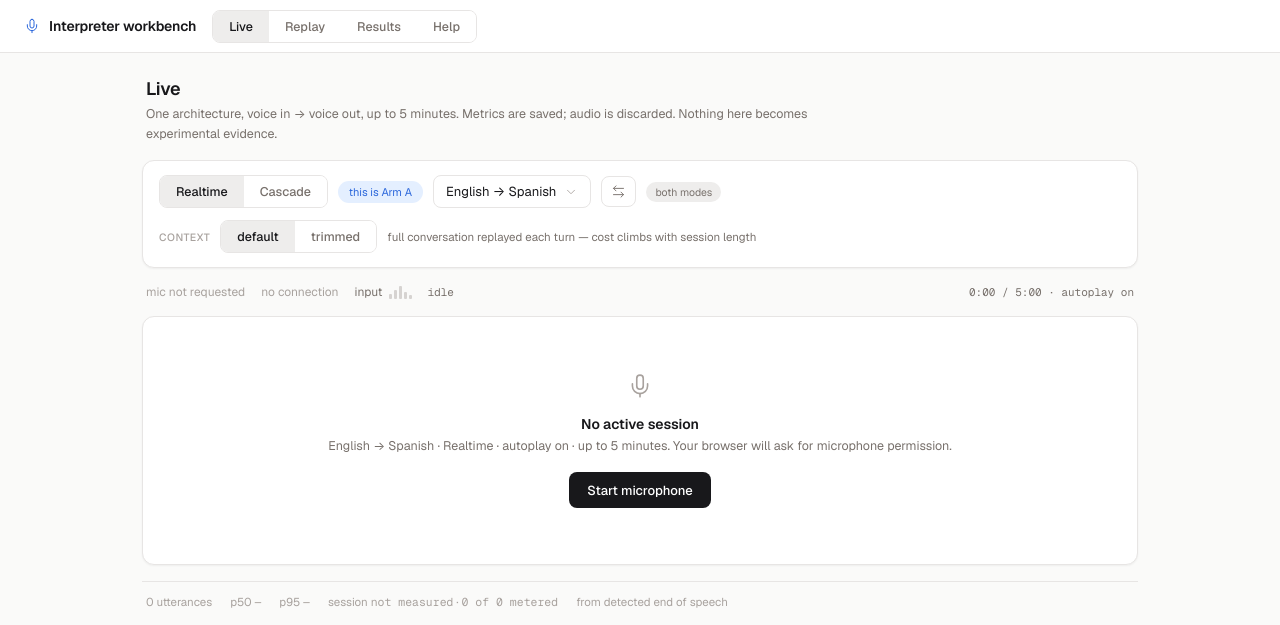
it: failure copy differs by architecture › realtime is opaque — NO stage attribution; the session keeps running
What coordinates should you click on to do the following:
click the button "Start microphone"
I would click on:
 (640, 490)
Its box is [569,472,711,508].
Wait 400 ms
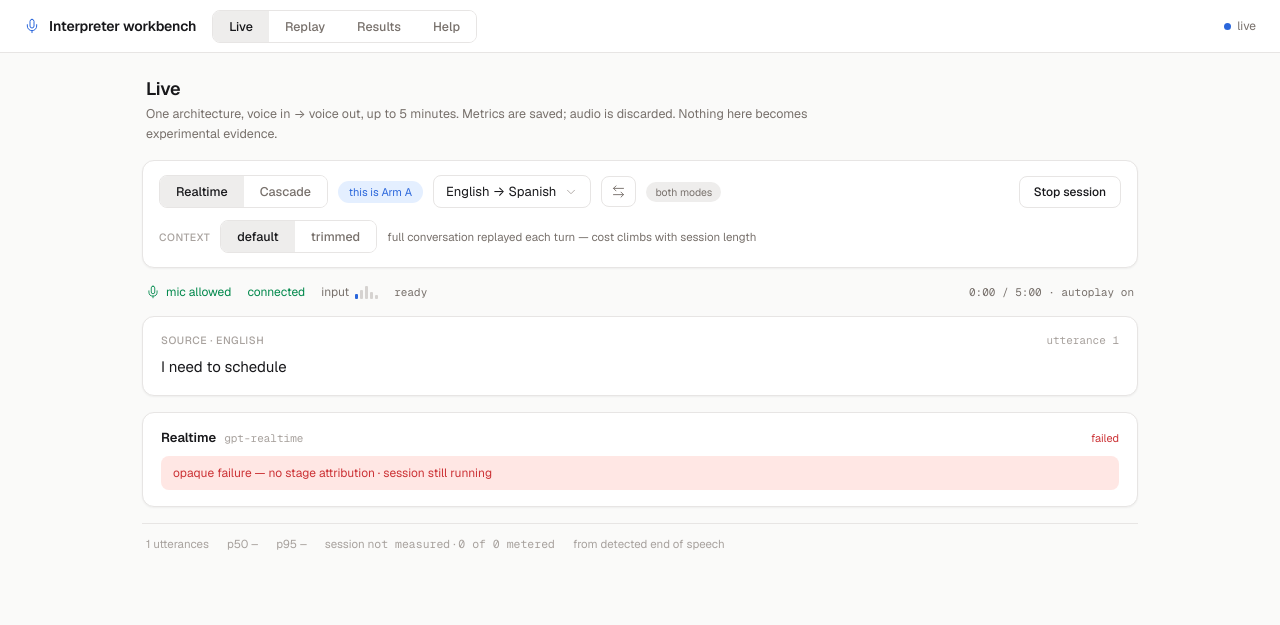
Expected: the text "opaque failure — no stage attribution · session still running" is shown, [173,465,492,481]
Expected: the text "connected" is shown, [247,284,305,300]
Expected: the button "Stop session" is shown, [1019,176,1121,208]
